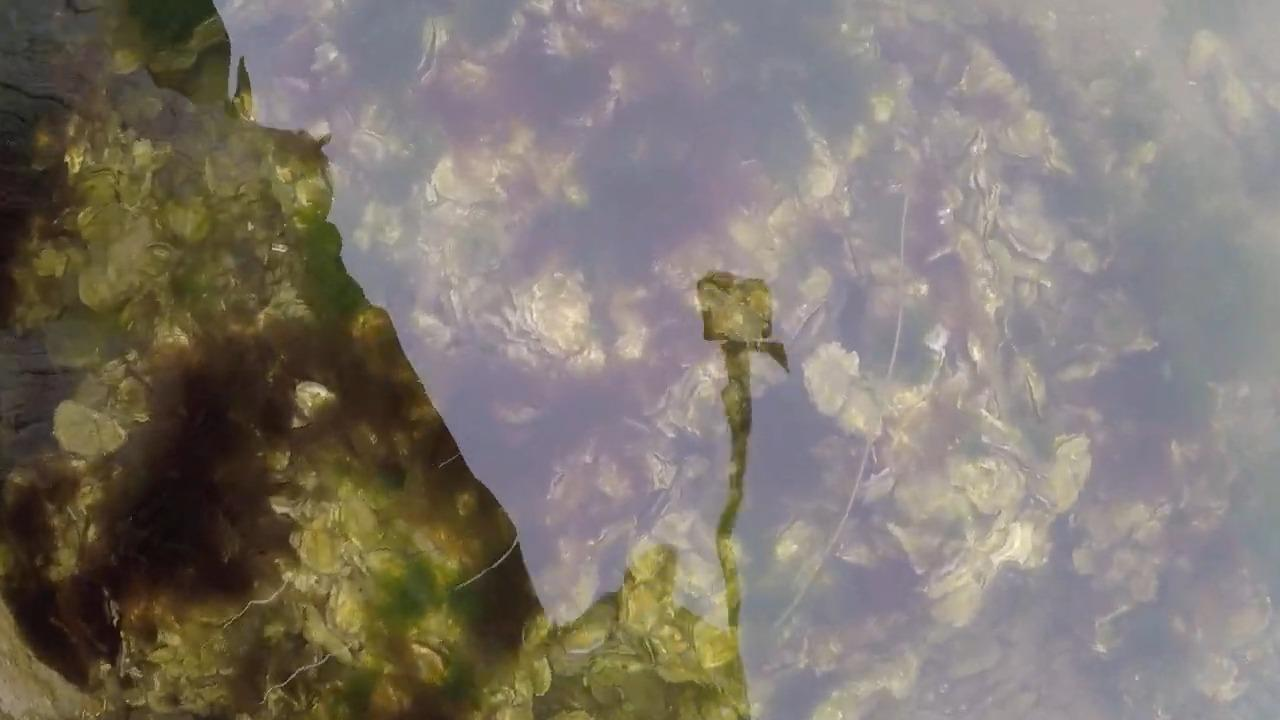Oyster: (32, 123, 309, 359), (876, 398, 1087, 603), (253, 459, 426, 685), (132, 541, 328, 714), (596, 543, 752, 715), (415, 244, 604, 384), (412, 115, 592, 251), (64, 179, 185, 320), (533, 435, 649, 561), (1179, 25, 1274, 138), (0, 610, 82, 720), (800, 645, 915, 719), (1075, 480, 1166, 570), (890, 458, 981, 547), (983, 335, 1058, 442), (520, 270, 600, 359), (421, 29, 508, 101), (981, 228, 1055, 312), (1088, 532, 1167, 604), (800, 339, 866, 421), (41, 306, 123, 372), (763, 186, 834, 262), (954, 38, 1027, 111), (1169, 441, 1236, 519), (948, 450, 1021, 520), (659, 360, 722, 438), (888, 510, 961, 577), (1084, 292, 1160, 356), (351, 193, 416, 267), (51, 397, 125, 460), (75, 251, 147, 315), (1041, 433, 1095, 515), (598, 659, 674, 716), (925, 568, 991, 630), (427, 154, 499, 210), (995, 199, 1058, 260), (1212, 587, 1272, 650), (938, 629, 1008, 683), (607, 296, 660, 364), (649, 506, 710, 565), (993, 107, 1058, 162), (55, 402, 123, 454), (300, 603, 358, 662), (883, 376, 941, 434), (834, 377, 886, 441), (559, 601, 616, 656), (410, 303, 461, 362), (691, 615, 742, 672), (726, 205, 776, 261), (75, 198, 133, 245), (989, 518, 1039, 571), (298, 523, 347, 577), (336, 492, 382, 549), (626, 540, 677, 590), (1192, 649, 1240, 700), (72, 164, 124, 210), (621, 581, 665, 635), (797, 151, 839, 205), (791, 262, 834, 314), (162, 201, 212, 245), (111, 373, 153, 425), (1186, 28, 1229, 78), (1094, 599, 1138, 647), (773, 517, 815, 566), (329, 587, 369, 638), (291, 379, 337, 423), (748, 344, 792, 388), (834, 534, 885, 570), (291, 171, 333, 213), (116, 164, 155, 209), (1062, 235, 1104, 276), (1205, 377, 1244, 421), (858, 464, 898, 505), (362, 547, 407, 583), (231, 56, 254, 122), (410, 640, 447, 680), (351, 307, 392, 343), (492, 396, 541, 426), (31, 245, 70, 281), (647, 450, 679, 493), (525, 649, 554, 696), (1071, 540, 1105, 578), (310, 41, 344, 76), (1124, 138, 1158, 173), (868, 90, 898, 126), (561, 170, 590, 207), (920, 322, 950, 357), (418, 20, 438, 72), (445, 282, 467, 328), (63, 141, 88, 175), (145, 241, 174, 262), (203, 155, 219, 192)
